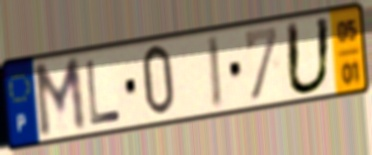0: (139, 42, 178, 122)
7: (243, 25, 280, 105)
I: (204, 32, 225, 112)
L: (84, 57, 123, 127)
M: (31, 53, 89, 142)
U: (283, 15, 334, 98)
